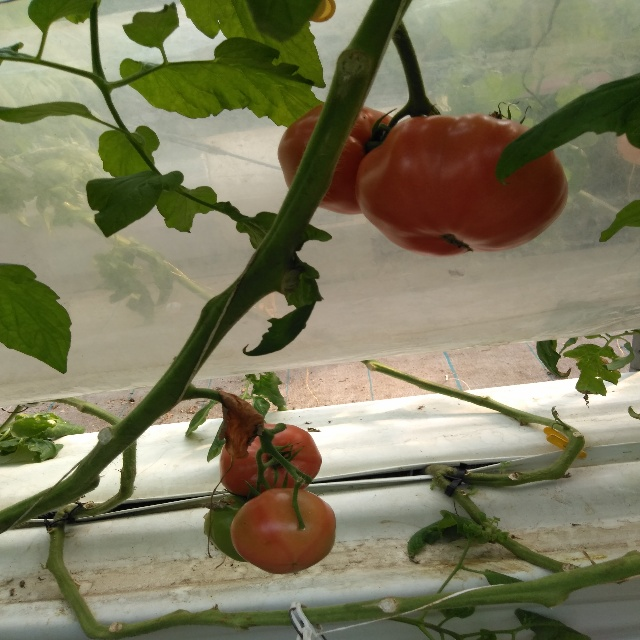b_fully_ripened: (354, 113, 570, 258), (277, 102, 398, 214), (219, 423, 322, 497)
b_green: (203, 493, 255, 563)
b_half_ripened: (231, 488, 337, 574)
